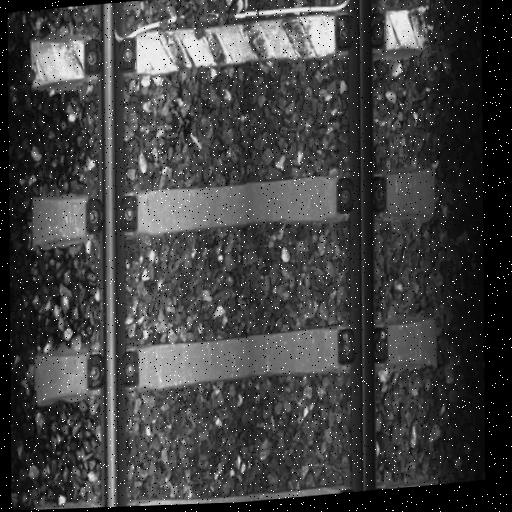sleeper: (29, 0, 436, 93), (32, 161, 437, 254), (33, 318, 439, 402), (39, 471, 438, 510)
